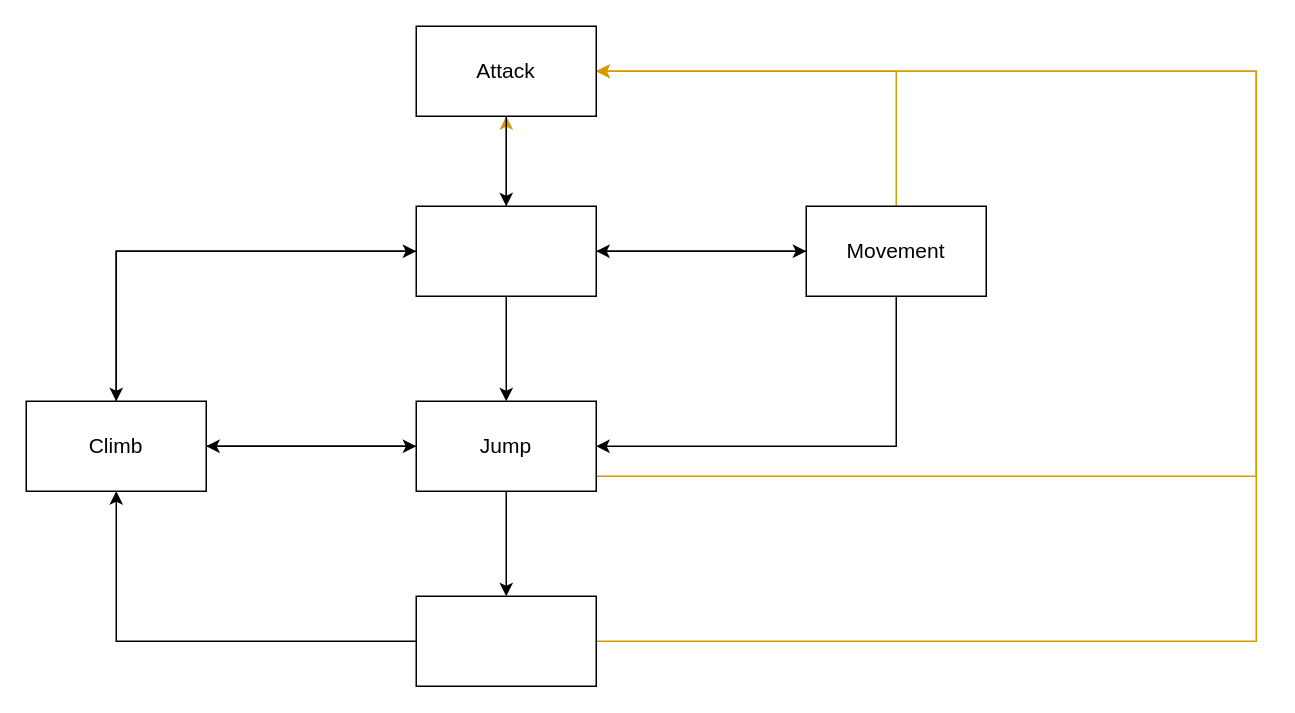
Image size: 1295x713. Some labels were removed from this diagram. The shapes that lost their labels are listed below. From the top down, each one's centre as x and y in pixels, then its label:
At (505,250): "Idle".
At (505,640): "Fall".
